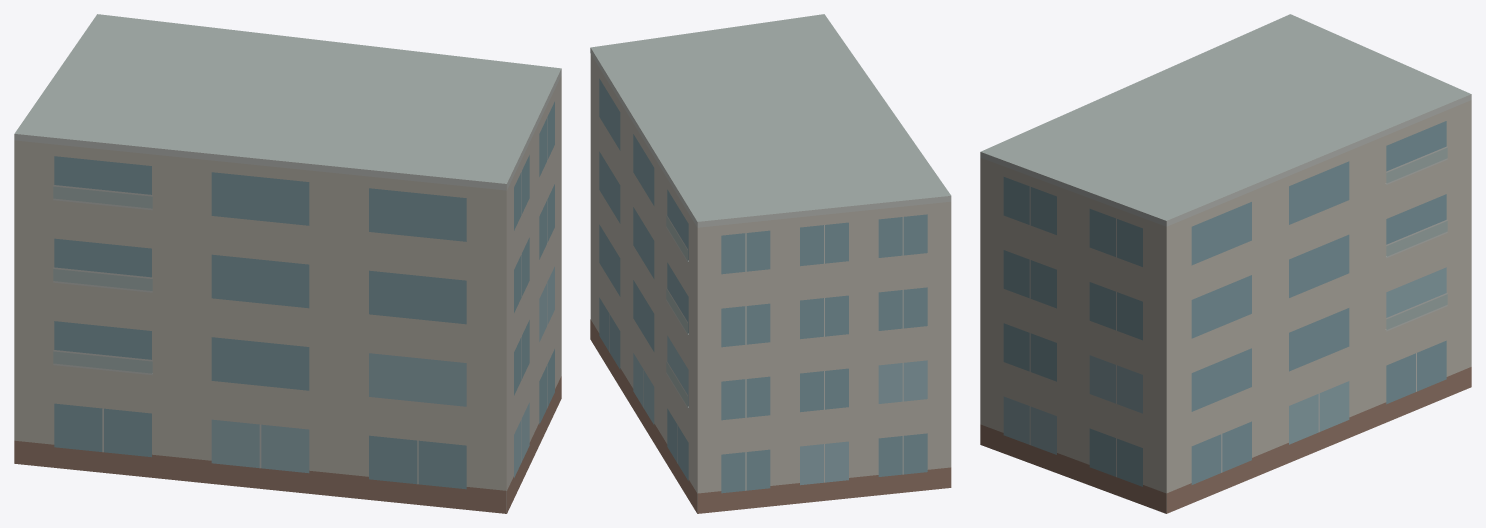
File: survey-upis-32651589.glb
The picture shows the model from 3 angles, left to right: view 1: azimuth 30°, elevation 25°; view 2: azimuth 150°, elevation 25°; view 3: azimuth 270°, elevation 25°; orthographic projection. The views are drawn at different scales.
Parts seen in each view (by area): view 1: survey-upis-32651589.tmp; view 2: survey-upis-32651589.tmp; view 3: survey-upis-32651589.tmp.
Part boxes in pixels (x1=…): survey-upis-32651589.tmp: x1=14, y1=14, x2=561, y2=513; survey-upis-32651589.tmp: x1=590, y1=14, x2=951, y2=513; survey-upis-32651589.tmp: x1=980, y1=14, x2=1471, y2=513.
Bounding box in the file's own units: 18.49 × 12.2 × 18.54.
